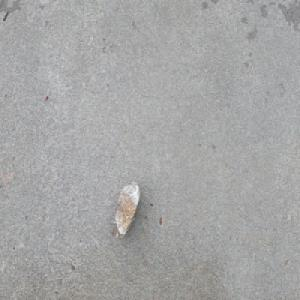Rock: (112, 180, 141, 238)
